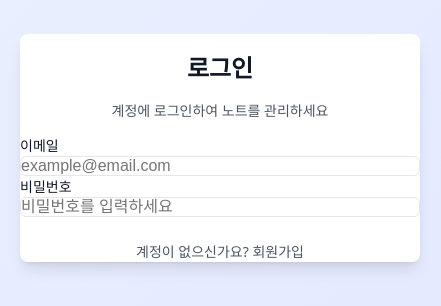
Test case: Login 페이지 › 폼 유효성 검증 › 잘못된 이메일 형식이면 에러가 표시된다
Type "invalid-email" into the field labelled "이메일". click: (220, 166)
box: [20, 156, 420, 176]
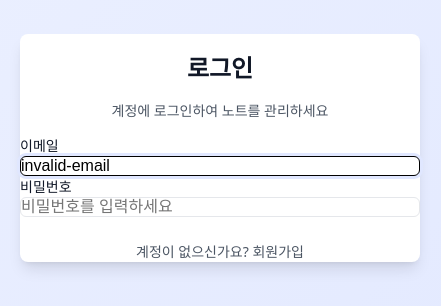
Click the button "로그인". click: (220, 229)
box: [20, 217, 420, 241]
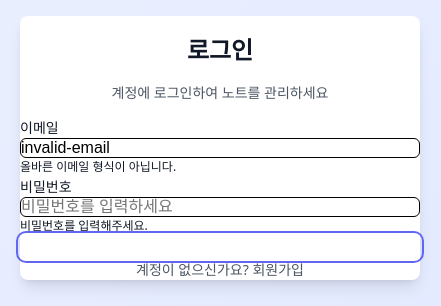
Expected: the text "올바른 이메일 형식이 아닙니다." is shown, [20, 158, 176, 175]
